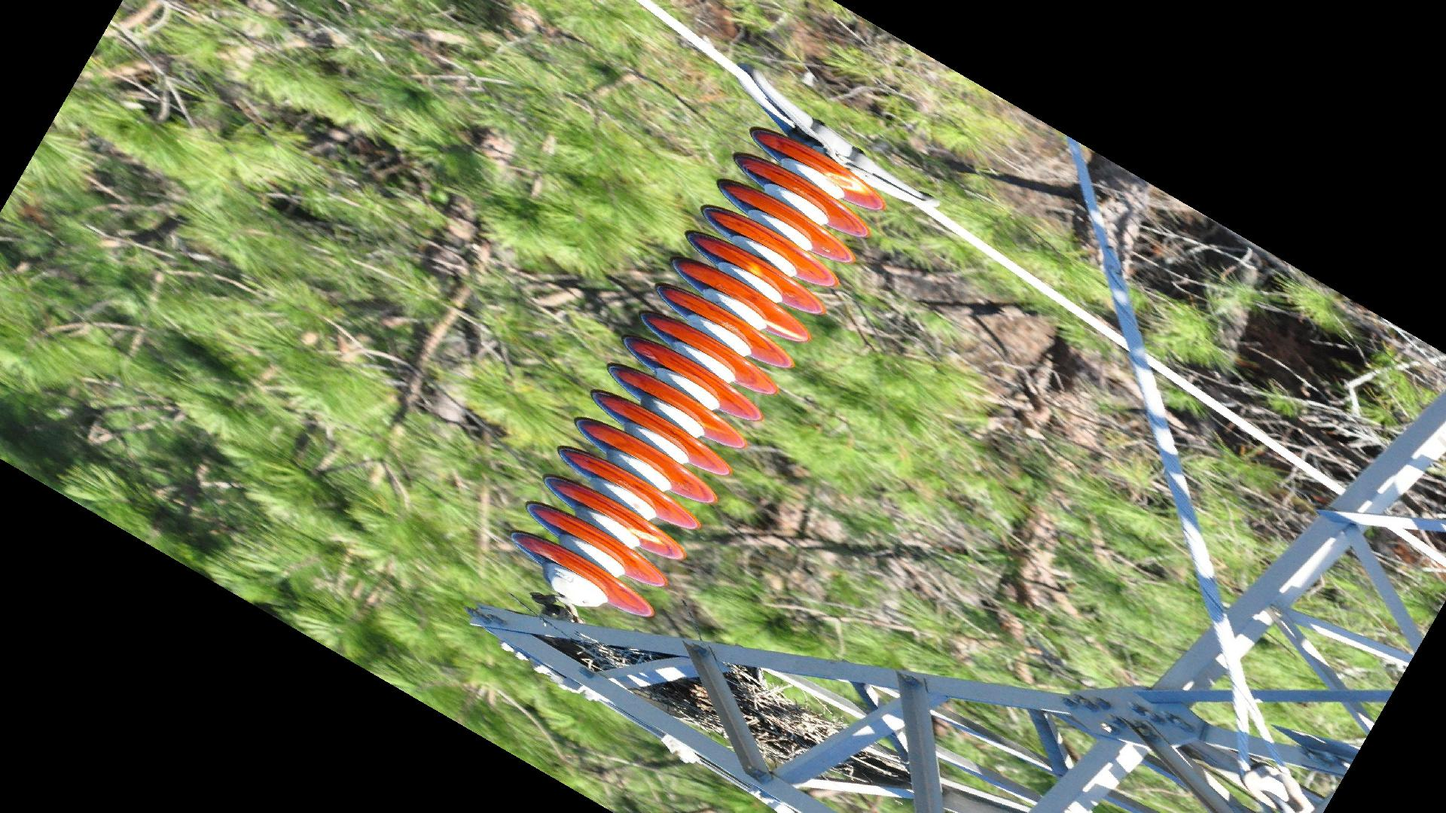insulator: (502, 123, 891, 624)
insulator_flashover: (822, 169, 870, 196), (624, 525, 665, 545)
